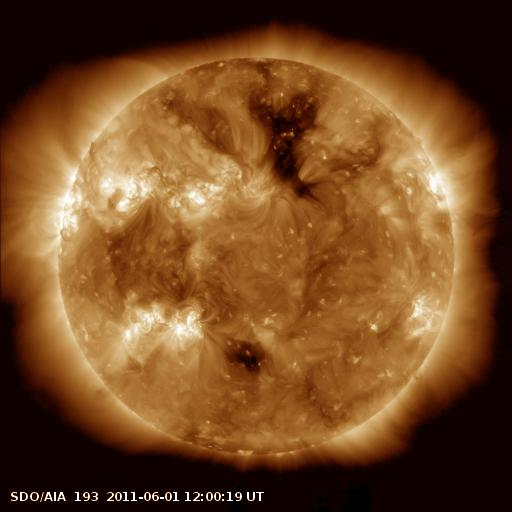coronal_hole: (245, 86, 332, 206), (220, 339, 271, 376)
